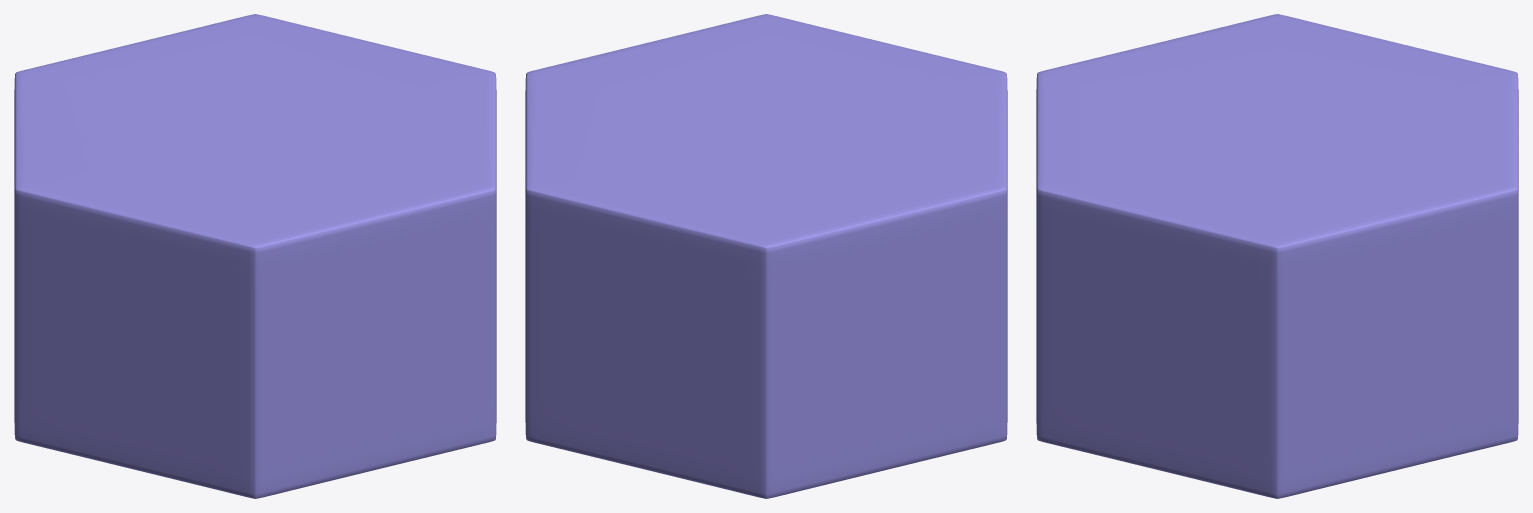
The model's file is asset.glb.
3 views of the same model, side by side, from view 1: azimuth 30°, elevation 25°; view 2: azimuth 150°, elevation 25°; view 3: azimuth 270°, elevation 25° (orthographic).
Parts seen in each view (by area): view 1: 3DGeom-1; view 2: 3DGeom-1; view 3: 3DGeom-1.
Part boxes in pixels (x1,y1,x2,y2): 3DGeom-1: (14,14,496,498); 3DGeom-1: (525,14,1007,498); 3DGeom-1: (1036,14,1518,498).
Size of the model in its own units: 1.26 by 0.6346 by 1.09.
